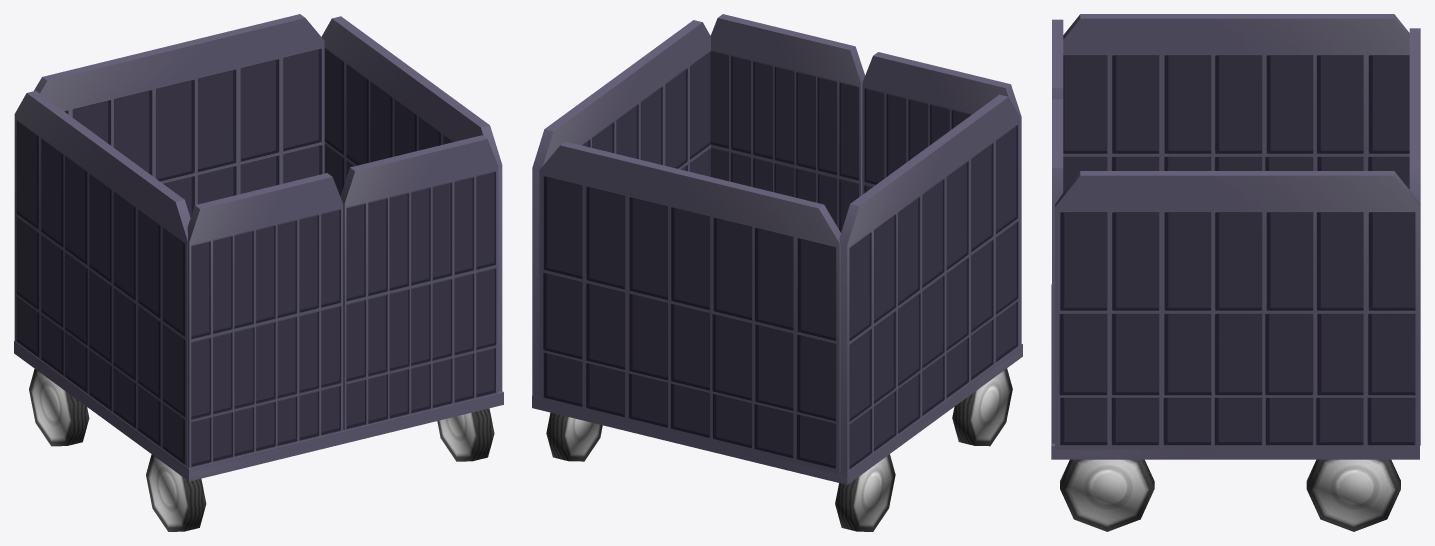
File: basket4.fbx
The picture shows the model from 3 angles, left to right: view 1: azimuth 30°, elevation 25°; view 2: azimuth 150°, elevation 25°; view 3: azimuth 270°, elevation 25°; orthographic projection. The views are drawn at different scales.
Parts seen in each view (by area): view 1: basket4; view 2: basket4; view 3: basket4.
Boxes of the visible parts, <box> form: basket4: <box>14,14,503,531</box>; basket4: <box>532,14,1022,531</box>; basket4: <box>1051,14,1420,531</box>.
Size of the model in its own units: 3.96 by 4.09 by 3.82.
